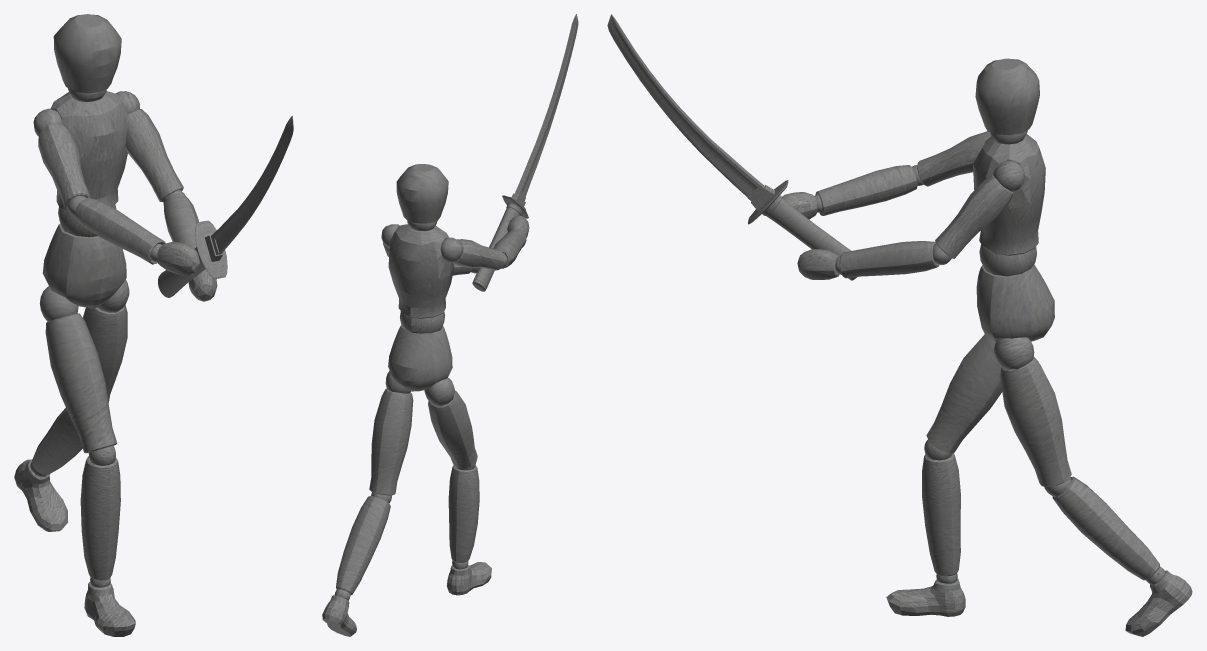
File: ManFin.fbx
3 renders of one model, left to right at view 1: azimuth 30°, elevation 25°; view 2: azimuth 150°, elevation 25°; view 3: azimuth 270°, elevation 25°, orthographic. The views are drawn at different scales.
Visible parts, largest first — view 1: polySurface80, polySurface82, polySurface75, polySurface90, polySurface79, polySurface85, polySurface83, polySurface89, polySurface88, polySurface81, polySurface76, polySurface78 (+4 smaller); view 2: polySurface82, polySurface81, polySurface75, polySurface80, polySurface77, polySurface85, polySurface90, polySurface79, polySurface89, polySurface78, polySurface76, polySurface88; view 3: polySurface81, polySurface82, polySurface85, polySurface75, polySurface80, polySurface77, polySurface90, polySurface79, polySurface83, polySurface84, polySurface88, polySurface78 (+3 smaller).
Boxes of the visible parts, x1,y1,x2,y2 form: polySurface80: (39,286,116,453); polySurface82: (50,91,128,237); polySurface75: (42,223,126,308); polySurface90: (53,14,121,102); polySurface79: (80,445,120,580); polySurface85: (158,115,293,297); polySurface83: (115,91,183,201); polySurface89: (33,108,90,210); polySurface88: (67,195,165,264); polySurface81: (83,279,129,402); polySurface76: (14,459,68,531); polySurface78: (84,577,135,636); polySurface82: (388,224,454,333); polySurface81: (369,370,413,495); polySurface75: (388,324,452,391); polySurface80: (424,377,477,468); polySurface77: (336,492,391,595); polySurface85: (472,14,578,291); polySurface90: (396,164,448,230); polySurface79: (448,463,479,562); polySurface89: (440,237,504,270); polySurface78: (446,560,491,595); polySurface76: (322,588,356,636); polySurface88: (493,229,526,268); polySurface81: (994,337,1071,486); polySurface82: (973,134,1045,276); polySurface85: (607,14,856,280); polySurface75: (976,264,1054,342); polySurface80: (926,334,1002,453); polySurface77: (1044,476,1159,580); polySurface90: (975,58,1039,144); polySurface79: (922,439,960,576); polySurface83: (935,161,1024,258); polySurface84: (839,241,951,278); polySurface88: (815,164,923,215); polySurface78: (886,573,965,616).
Size of the model in its own units: 41.5 by 191 by 167.
